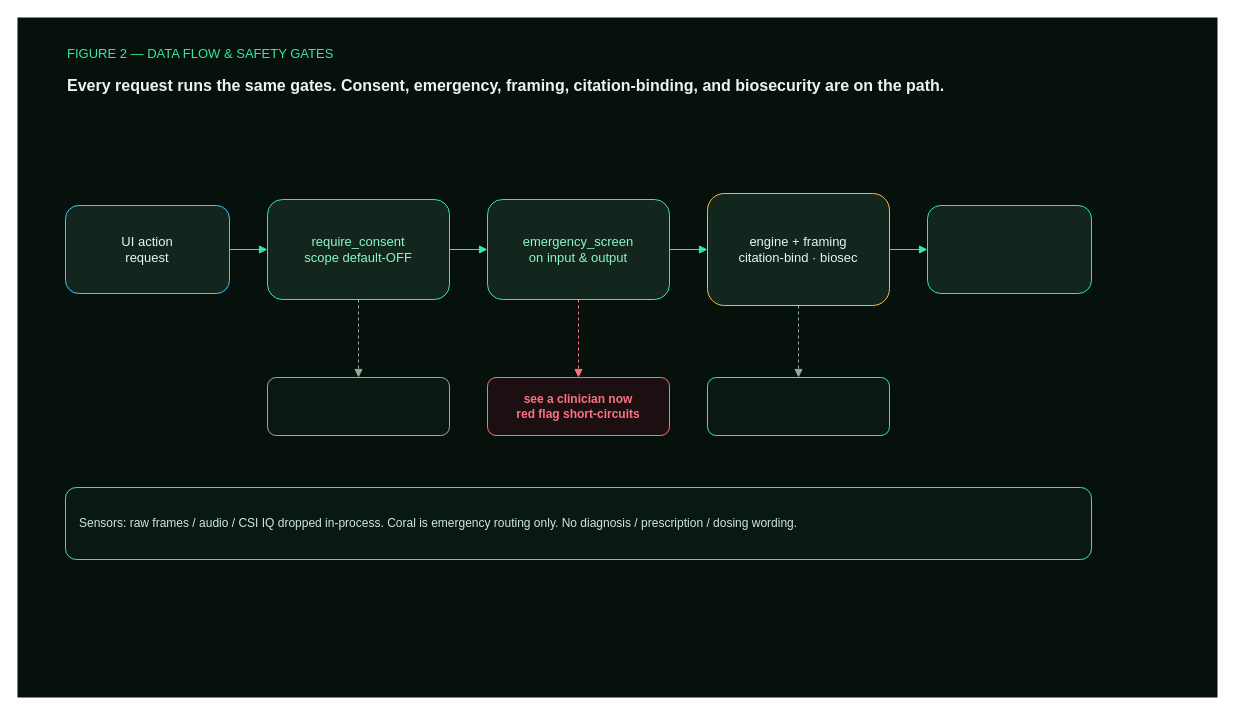
Image size: 1234x714. Some labels were removed from this diagram. Each missing label, with the box of its shape:
403 · blocked until you grant it: (266, 376, 450, 436)
honest-null no source → consult a pro: (706, 376, 890, 436)
Response framed · features only: (926, 204, 1092, 294)
